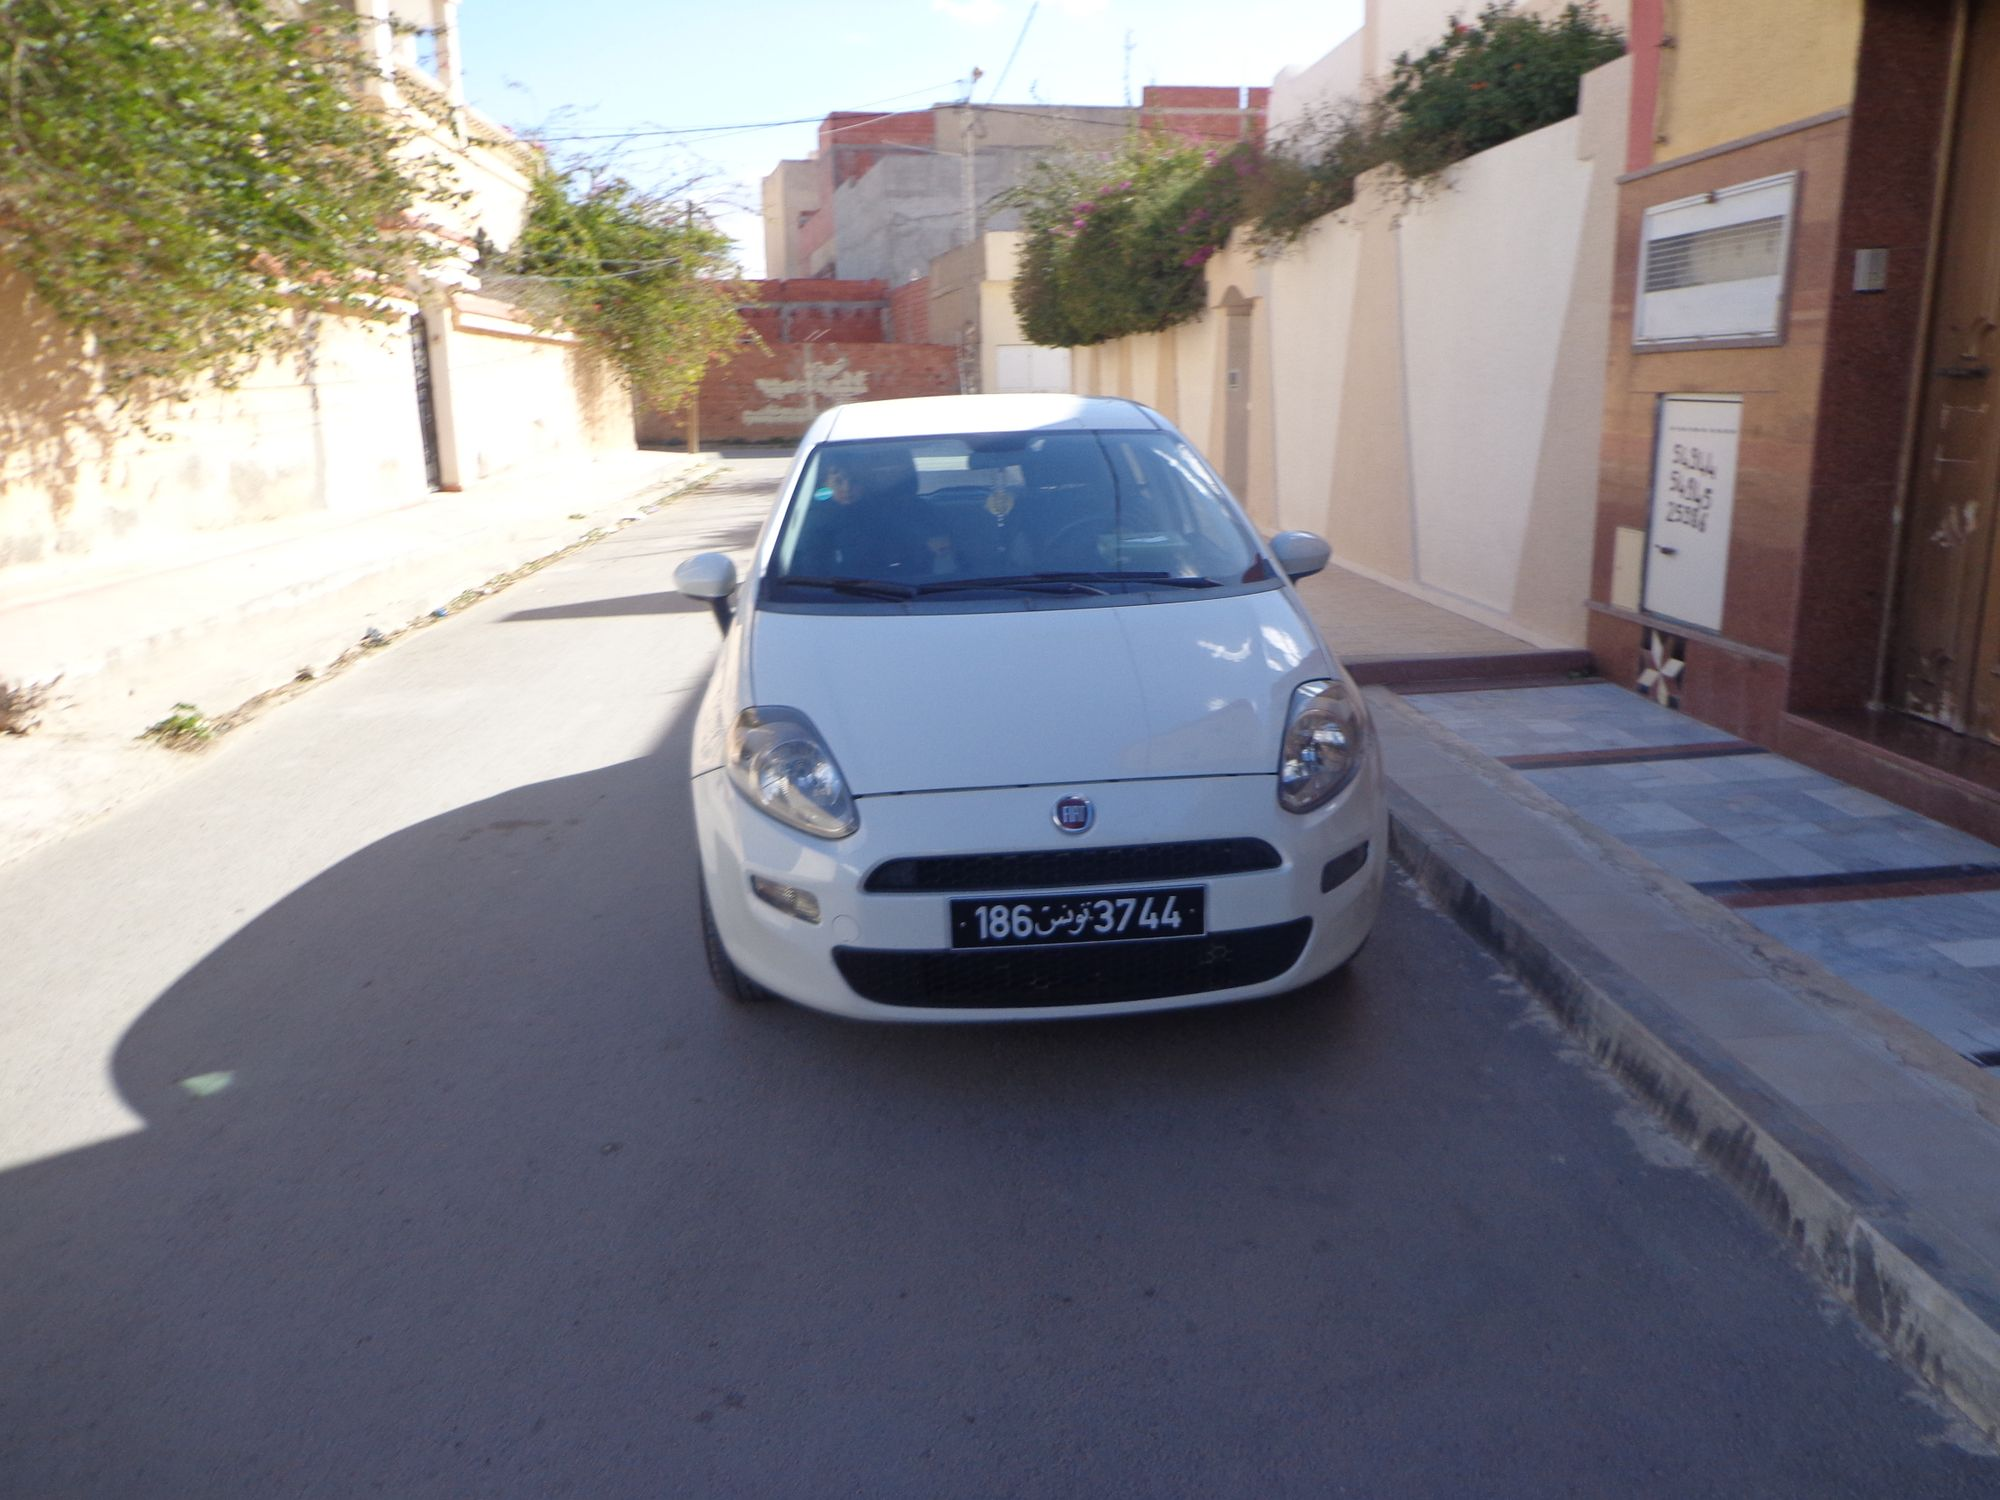LP: (948, 887, 1208, 945)
